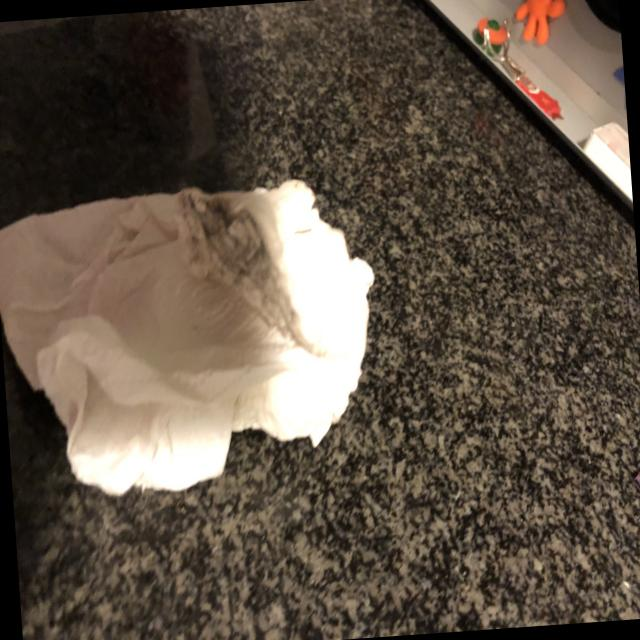organic waste: (0, 167, 388, 512)
